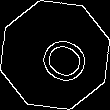O_NW: (22, 24, 88, 86)
